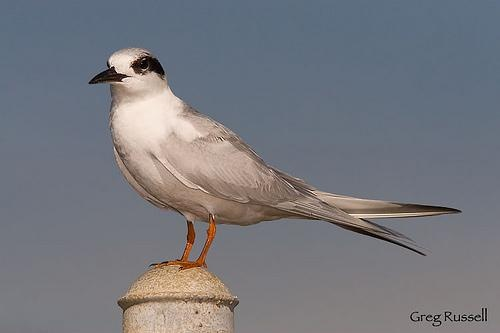bird: (87, 44, 463, 271)
